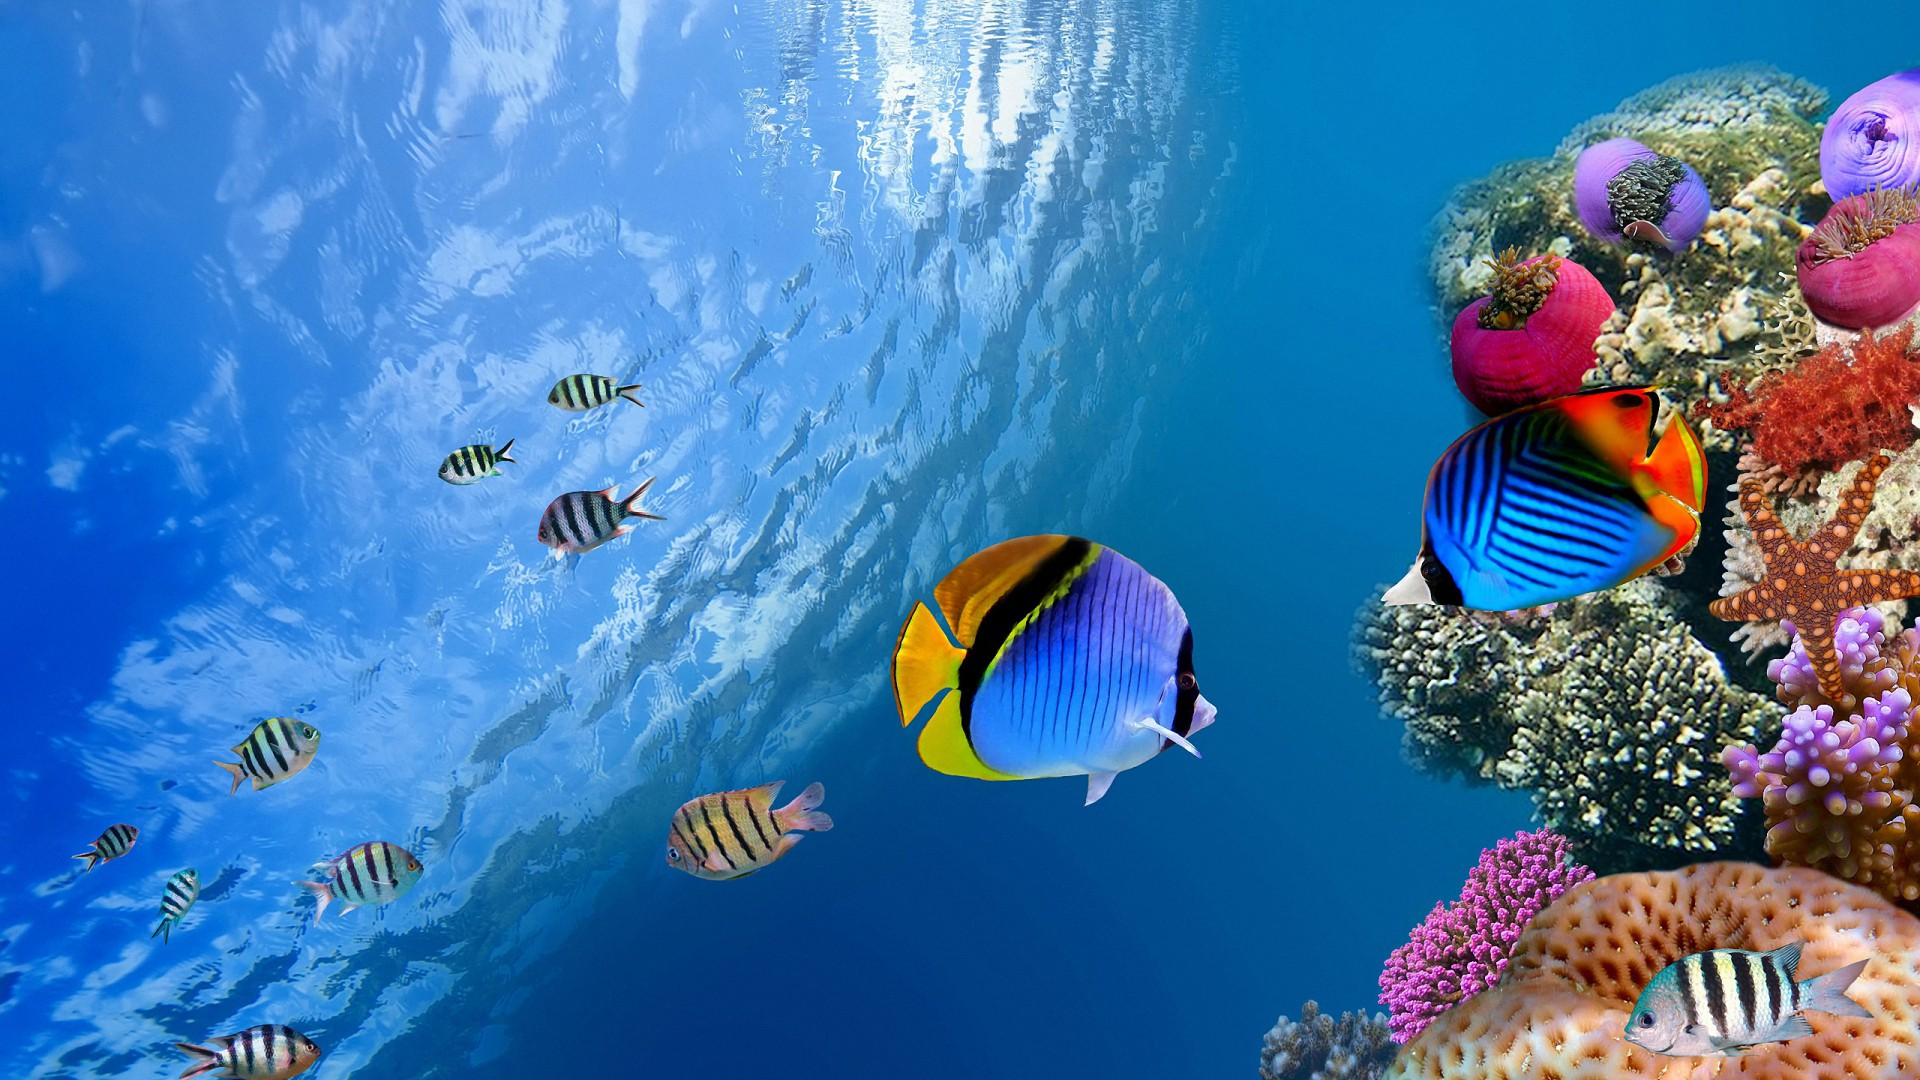fish: (890, 527, 1244, 814), (1373, 401, 1735, 626), (1594, 945, 1900, 1060), (641, 785, 845, 884), (289, 849, 459, 924), (514, 487, 680, 562), (198, 716, 328, 803), (167, 1022, 334, 1080), (521, 355, 644, 429), (407, 429, 514, 491), (160, 868, 203, 951), (82, 822, 148, 872)
